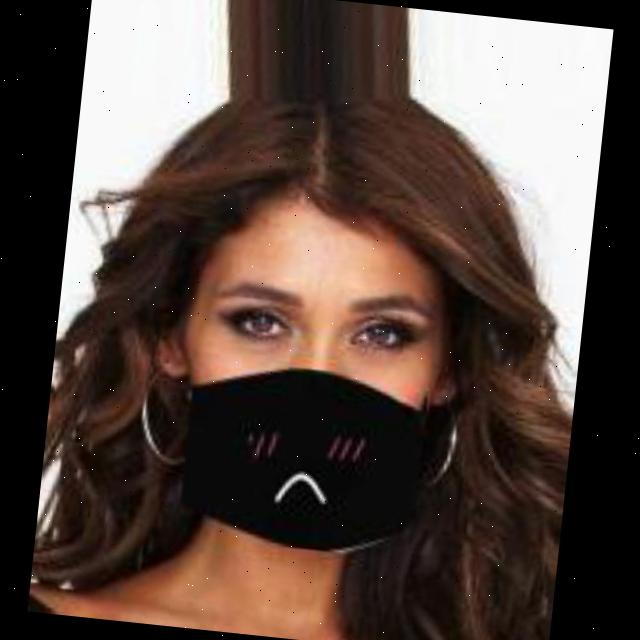suspicion: (155, 144, 511, 591)
